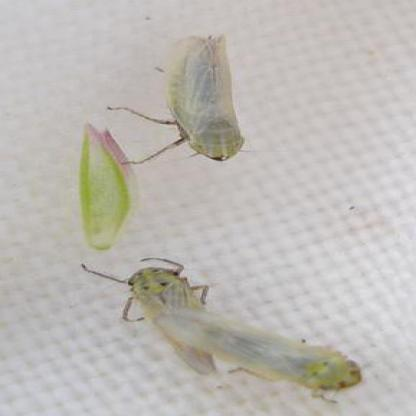brown-planthopper: (78, 253, 364, 395), (106, 31, 244, 170)
